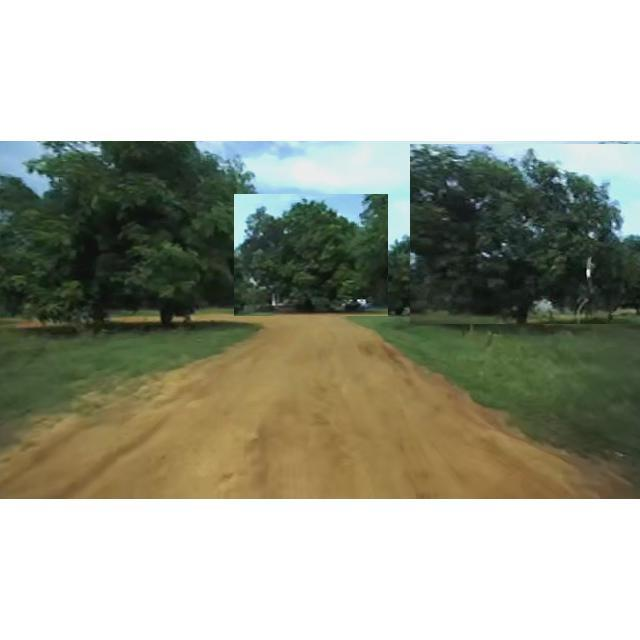direk: (1, 142, 277, 334), (410, 144, 640, 324), (235, 194, 388, 316), (365, 230, 447, 322)
